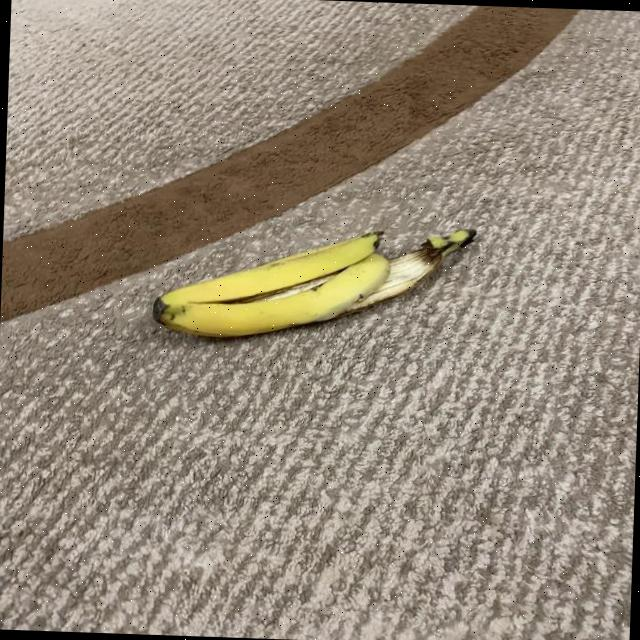banana-peel: (150, 215, 476, 347)
